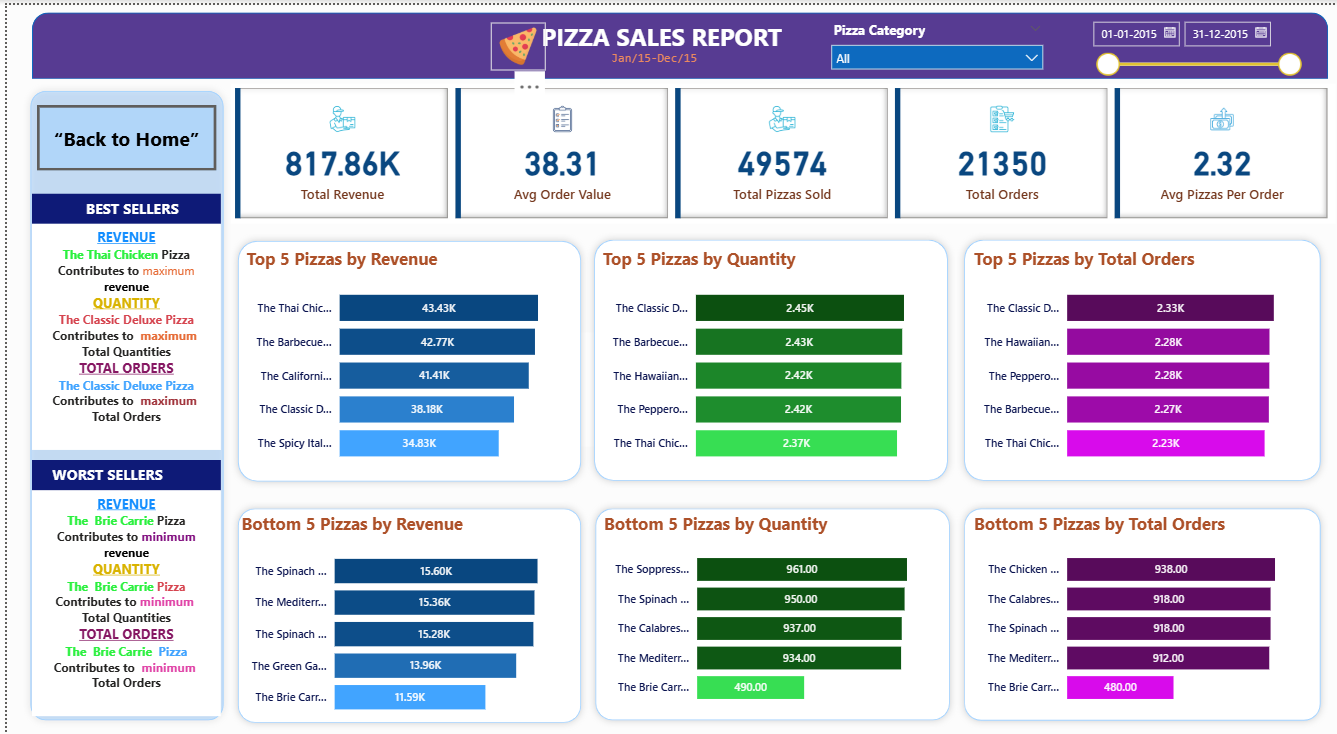

Layout of this report page (visuals, bound fields, positions):
{"tool":"powerbi","page":{"name":"Best/Worst Sellers","canvas":[1500,820],"ordinal":1},"visuals":[{"type":"cardVisual","fields":{"Data":["pizza_sales.Total Revenue","pizza_sales.Avg Order Value","pizza_sales.Total Pizzas Sold","pizza_sales.Total Orders","pizza_sales.Avg Pizzas Per Order"]},"box":[249.3,87.7,1231.1,156],"z":0},{"type":"shape","box":[27.3,8,1444,74],"z":1000},{"type":"textbox","box":[590,12.5,305,52.5],"z":2000},{"type":"textbox","box":[428.8,365,321.2,127.5],"z":3000},{"type":"textbox","box":[668.8,45,112.5,28.8],"z":4000},{"type":"image","box":[538.6,20,61.4,52.9],"z":5000},{"type":"shape","title":"Daily Trend for Total Orders","box":[249.3,254.9,398.3,284.1],"z":6000},{"type":"shape","title":"Daily Trend for Total Orders","box":[1058.1,254.1,413.3,284.6],"z":7000},{"type":"shape","title":"Daily Trend for Total Orders","box":[249.3,552.9,398.3,254.9],"z":8000},{"type":"shape","title":"Daily Trend for Total Orders","box":[18.1,87.7,231.2,717.2],"z":9000},{"type":"shape","title":"Daily Trend for Total Orders","box":[647.6,552.9,410.8,252.1],"z":10000},{"type":"shape","title":"Daily Trend for Total Orders","box":[1058.1,553.2,413.3,252.5],"z":11000},{"type":"textbox","box":[27.9,210.3,210.3,33.4],"z":12000},{"type":"textbox","box":[27.9,243.7,210.3,252.1],"z":13000},{"type":"textbox","box":[27.9,540.4,210.3,252.1],"z":14000},{"type":"textbox","box":[27.9,506.9,210.3,33.4],"z":15000},{"type":"slicer","fields":{"Values":["pizza_sales.pizza_category"]},"box":[908,12.5,256.3,69.6],"z":16000},{"type":"slicer","fields":{"Values":["pizza_sales.order_date"]},"box":[1197.7,8.4,252.1,79.4],"z":17000},{"type":"shape","title":"Daily Trend for Total Orders","box":[646.4,254.1,410.1,284.6],"z":18000},{"type":"barChart","title":"Top 5 Pizzas by Revenue","fields":{"Category":["pizza_sales.pizza_name"],"Y":["pizza_sales.Total Revenue"]},"box":[262.1,270.2,385.9,254.1],"z":19000},{"type":"barChart","title":"Bottom 5 Pizzas by Revenue","fields":{"Category":["pizza_sales.pizza_name"],"Y":["pizza_sales.Total Revenue"]},"box":[255.7,566,385.9,239.6],"z":20000},{"type":"barChart","title":"Top 5 Pizzas by Quantity","fields":{"Category":["pizza_sales.pizza_name"],"Y":["pizza_sales.Total Pizzas Sold"]},"box":[659.3,270.2,385.9,254.1],"z":21000},{"type":"barChart","title":"Bottom 5 Pizzas by Quantity","fields":{"Category":["pizza_sales.pizza_name"],"Y":["pizza_sales.Total Pizzas Sold"]},"box":[660.1,565.4,385.8,227],"z":22000},{"type":"barChart","title":"Top 5 Pizzas by Total Orders","fields":{"Category":["pizza_sales.pizza_name"],"Y":["pizza_sales.Total Orders"]},"box":[1072.6,270.2,385.9,254.1],"z":23000},{"type":"barChart","title":"Bottom 5 Pizzas by Total Orders","fields":{"Category":["pizza_sales.pizza_name"],"Y":["pizza_sales.Total Orders"]},"box":[1072.4,565.4,385.8,227],"z":24000},{"type":"actionButton","box":[33.8,111.2,199.8,73.2],"z":25000}]}

Visuals, with their boxes in screenshot pixels (x1, y1, x2, y2), scaled from the page's 1500x820 canvas onto the 1337x734 screenshot:
cardVisual - pizza_sales.Total Revenue x pizza_sales.Avg Order Value: (222, 79, 1320, 218)
shape: (24, 7, 1311, 73)
textbox: (526, 11, 798, 58)
textbox: (382, 327, 668, 441)
textbox: (596, 40, 696, 66)
image: (480, 18, 535, 65)
"Daily Trend for Total Orders" shape: (222, 228, 577, 482)
"Daily Trend for Total Orders" shape: (943, 227, 1312, 482)
"Daily Trend for Total Orders" shape: (222, 495, 577, 723)
"Daily Trend for Total Orders" shape: (16, 79, 222, 720)
"Daily Trend for Total Orders" shape: (577, 495, 943, 721)
"Daily Trend for Total Orders" shape: (943, 495, 1312, 721)
textbox: (25, 188, 212, 218)
textbox: (25, 218, 212, 444)
textbox: (25, 484, 212, 709)
textbox: (25, 454, 212, 484)
slicer - pizza_sales.pizza_category: (809, 11, 1038, 73)
slicer - pizza_sales.order_date: (1068, 8, 1292, 79)
"Daily Trend for Total Orders" shape: (576, 227, 942, 482)
"Top 5 Pizzas by Revenue" barChart: (234, 242, 578, 469)
"Bottom 5 Pizzas by Revenue" barChart: (228, 507, 572, 721)
"Top 5 Pizzas by Quantity" barChart: (588, 242, 932, 469)
"Bottom 5 Pizzas by Quantity" barChart: (588, 506, 932, 709)
"Top 5 Pizzas by Total Orders" barChart: (956, 242, 1300, 469)
"Bottom 5 Pizzas by Total Orders" barChart: (956, 506, 1300, 709)
actionButton: (30, 100, 208, 165)
